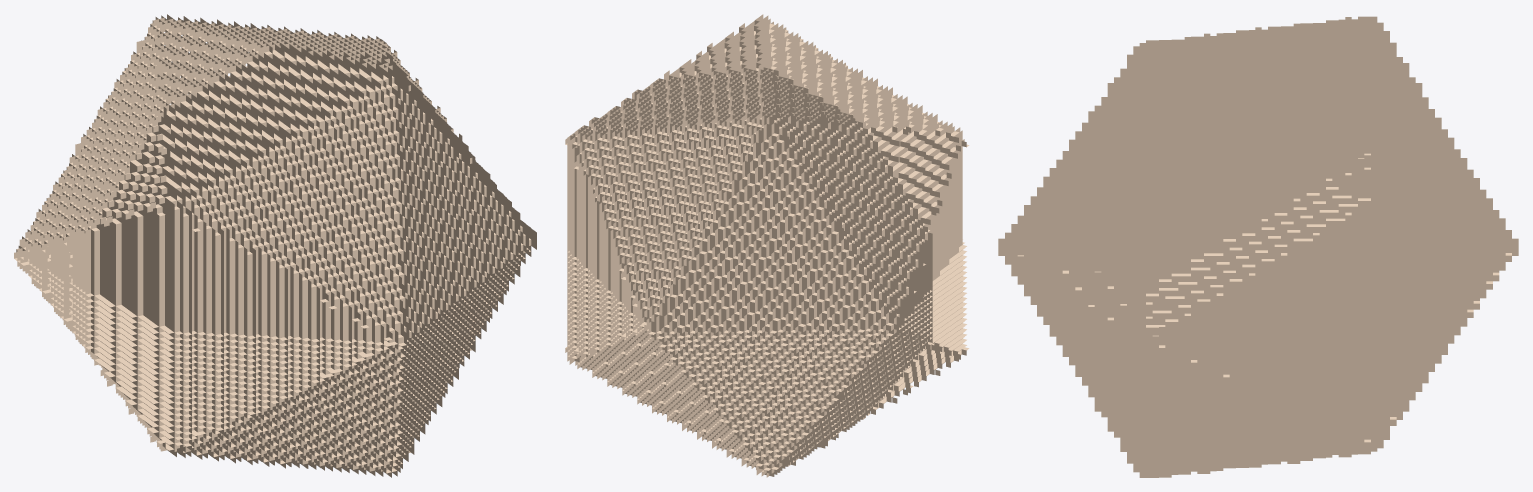
Rendered from icosa20_polyfront.obj.
The picture shows the model from 3 angles, left to right: view 1: azimuth 30°, elevation 25°; view 2: azimuth 150°, elevation 25°; view 3: azimuth 270°, elevation 25°; orthographic projection. The views are drawn at different scales.
Bounding box in the file's own units: 73 × 69 × 81.
